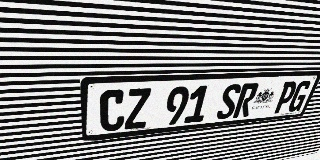1: (184, 85, 211, 123)
9: (164, 86, 191, 125)
C: (100, 89, 126, 132)
G: (286, 80, 313, 112)
P: (272, 81, 299, 114)
R: (232, 83, 260, 118)
S: (215, 84, 243, 120)
Z: (125, 88, 151, 130)
